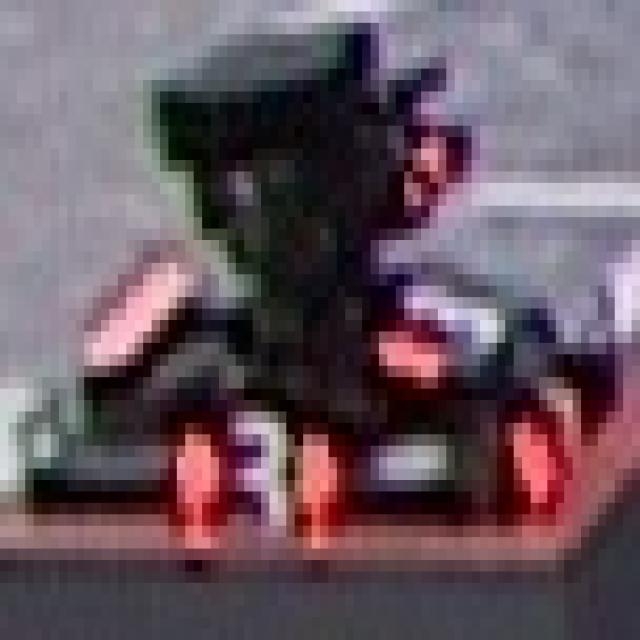R3: (160, 388, 345, 526), (354, 252, 514, 377)
